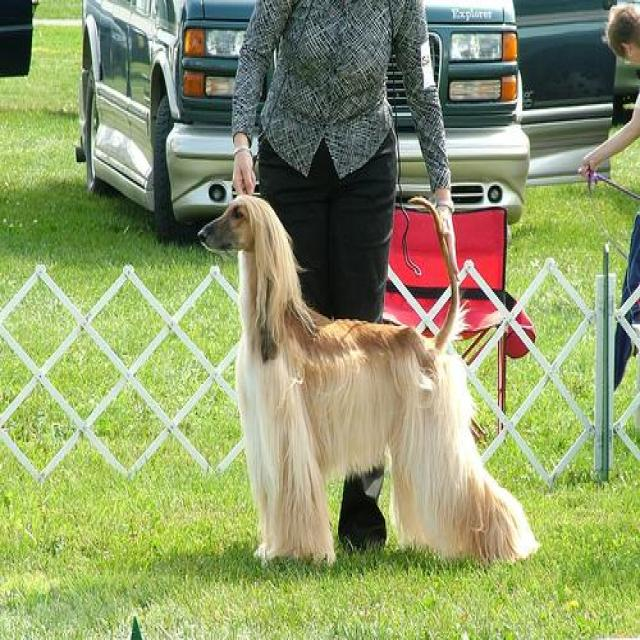afghan_hound: (197, 193, 539, 573)
